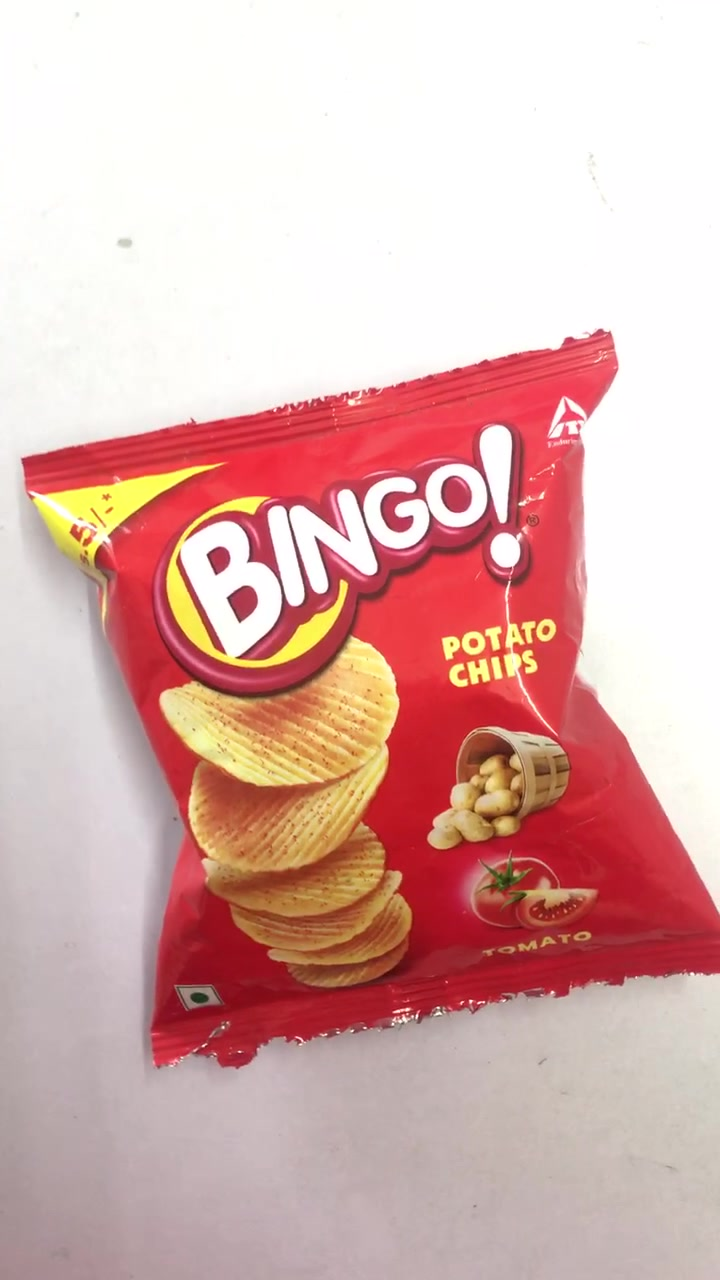Bingo: (26, 373, 720, 1046)
